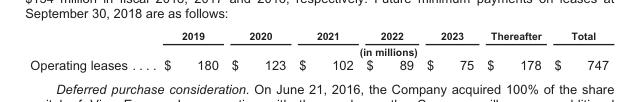table: (29, 29, 608, 71)
table column: (29, 29, 145, 71), (145, 29, 224, 71), (291, 29, 359, 71), (479, 29, 547, 71), (224, 29, 291, 71), (547, 29, 608, 71), (359, 29, 419, 71), (419, 29, 479, 71)
table column header: (29, 29, 608, 56)
table row: (29, 56, 608, 71), (29, 29, 608, 43), (29, 43, 608, 56)
table spanning cell: (145, 43, 608, 56)
